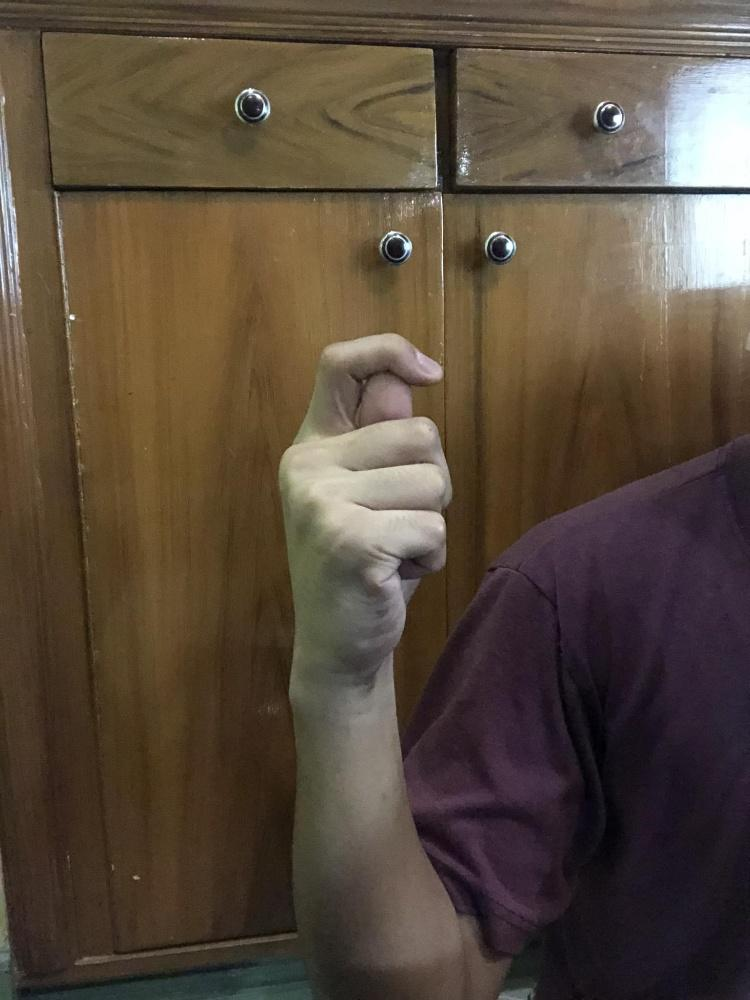t: (274, 326, 457, 684)
